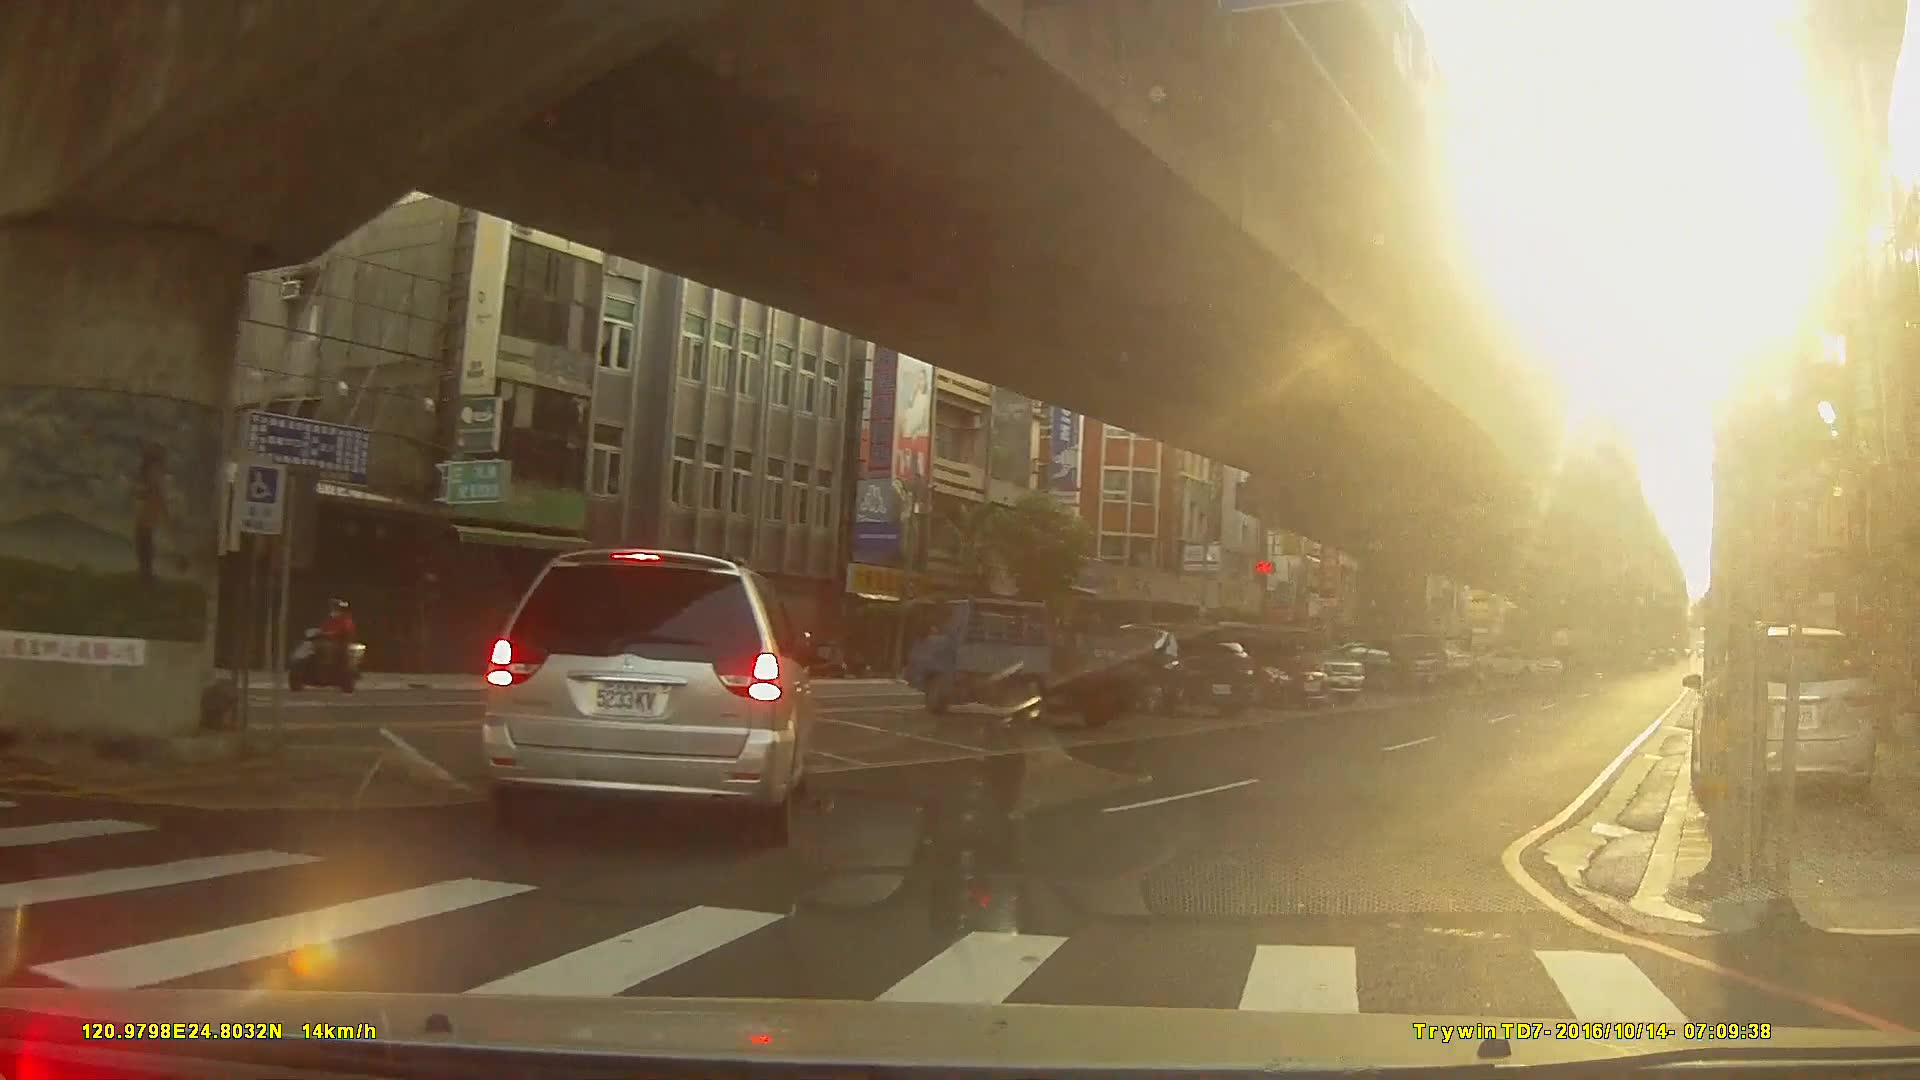rider: (286, 599, 367, 691)
vehicle: (482, 545, 816, 846), (1690, 622, 1876, 810), (905, 593, 1133, 722), (1079, 620, 1253, 718), (1168, 627, 1332, 707), (1308, 637, 1418, 690)
